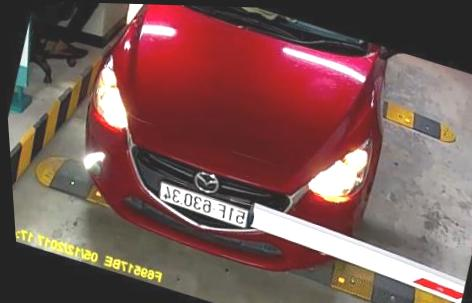License_Plate: (147, 180, 255, 237)
